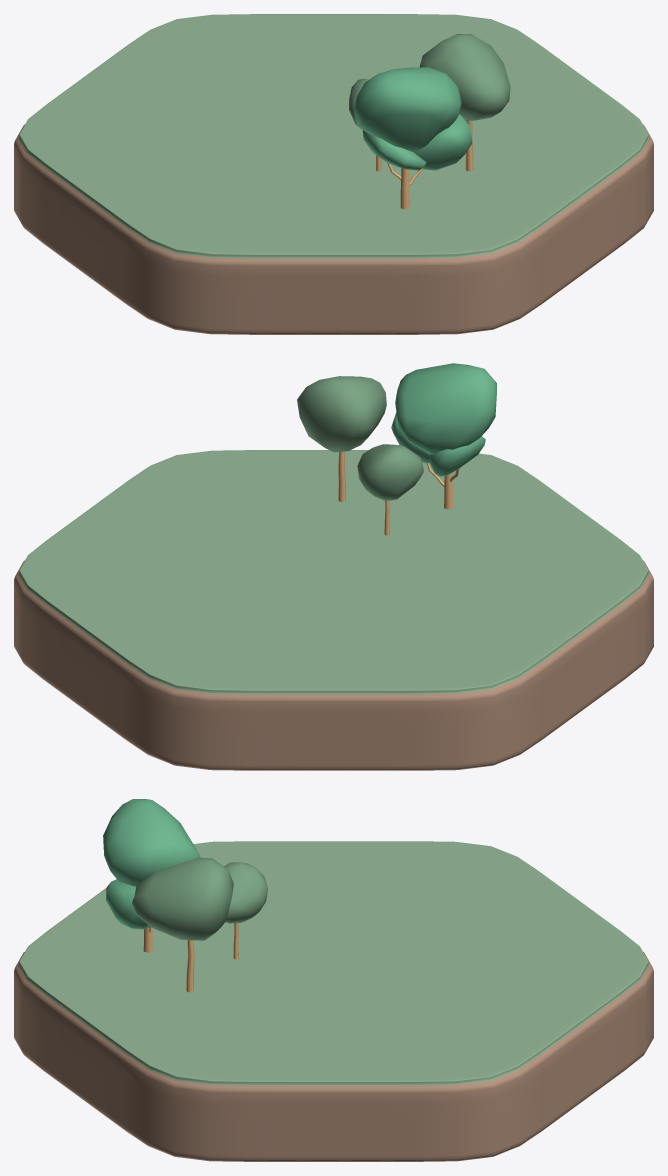
File: tile3.glb
3 renders of one model, top to bottom at view 1: azimuth 30°, elevation 25°; view 2: azimuth 150°, elevation 25°; view 3: azimuth 270°, elevation 25°, orthographic.
Parts seen in each view (by area): view 1: Tile, GreenTree4.002, GreenTree3.002; view 2: Tile, GreenTree4.002, GreenTree3.002, GreenTree3.003; view 3: Tile, GreenTree4.002, GreenTree3.002, GreenTree3.003.
Part boxes in pixels (x1=…): Tile: x1=14, y1=14, x2=653, y2=334; GreenTree4.002: x1=353, y1=67, x2=472, y2=209; GreenTree3.002: x1=419, y1=34, x2=510, y2=171; Tile: x1=14, y1=450, x2=653, y2=770; GreenTree4.002: x1=391, y1=363, x2=496, y2=509; GreenTree3.002: x1=297, y1=376, x2=386, y2=501; GreenTree3.003: x1=357, y1=444, x2=423, y2=535; Tile: x1=14, y1=841, x2=653, y2=1161; GreenTree4.002: x1=103, y1=799, x2=200, y2=952; GreenTree3.002: x1=131, y1=857, x2=233, y2=992; GreenTree3.003: x1=224, y1=862, x2=267, y2=959.
Size of the model in its own units: 27.55 by 11.69 by 30.48.
